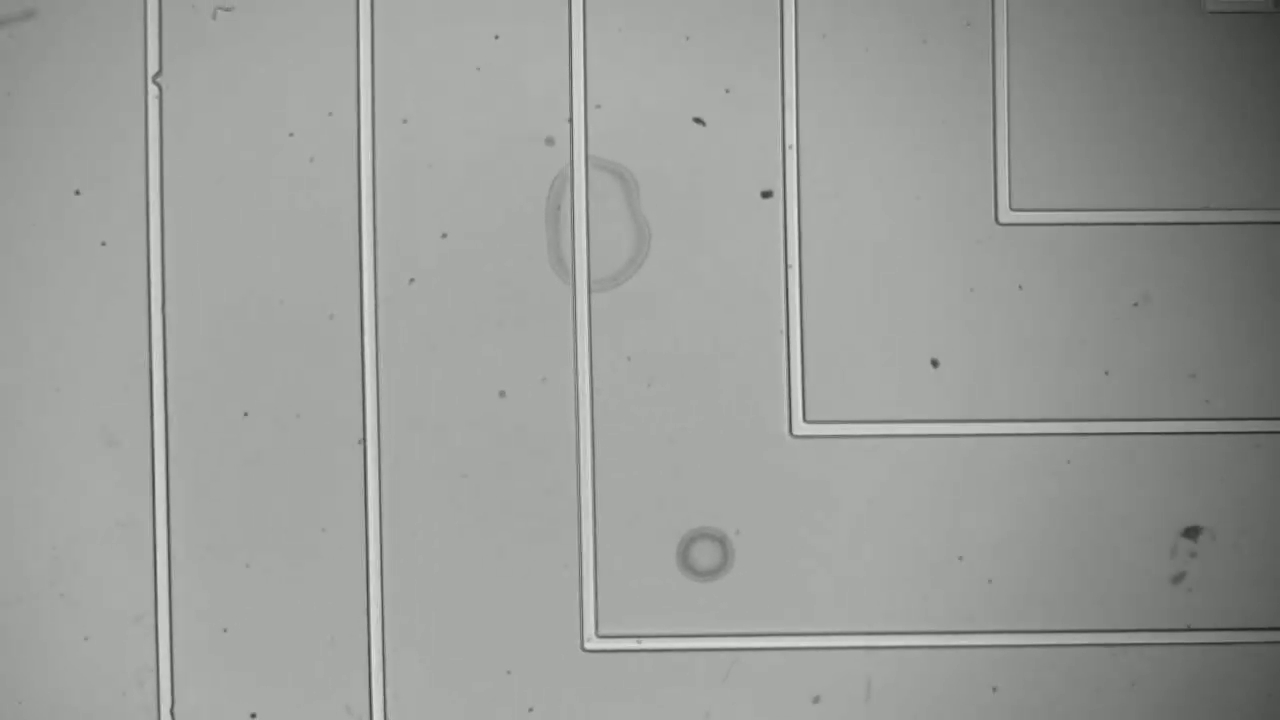edge_bite: (135, 62, 170, 94)
